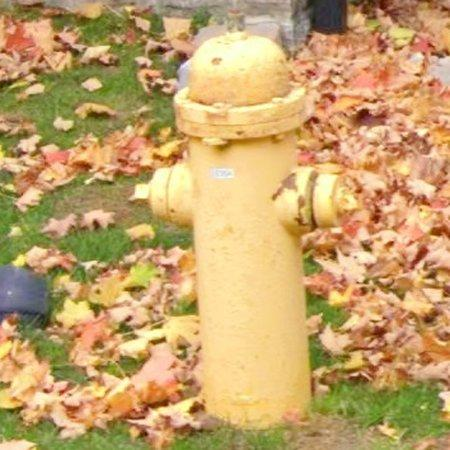a fire hydrant: (149, 30, 342, 429)
